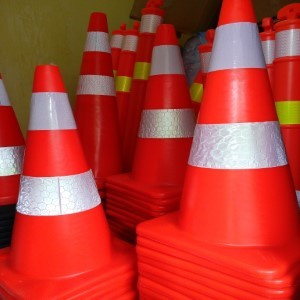traffic cone: (132, 1, 300, 280), (1, 63, 137, 299)
